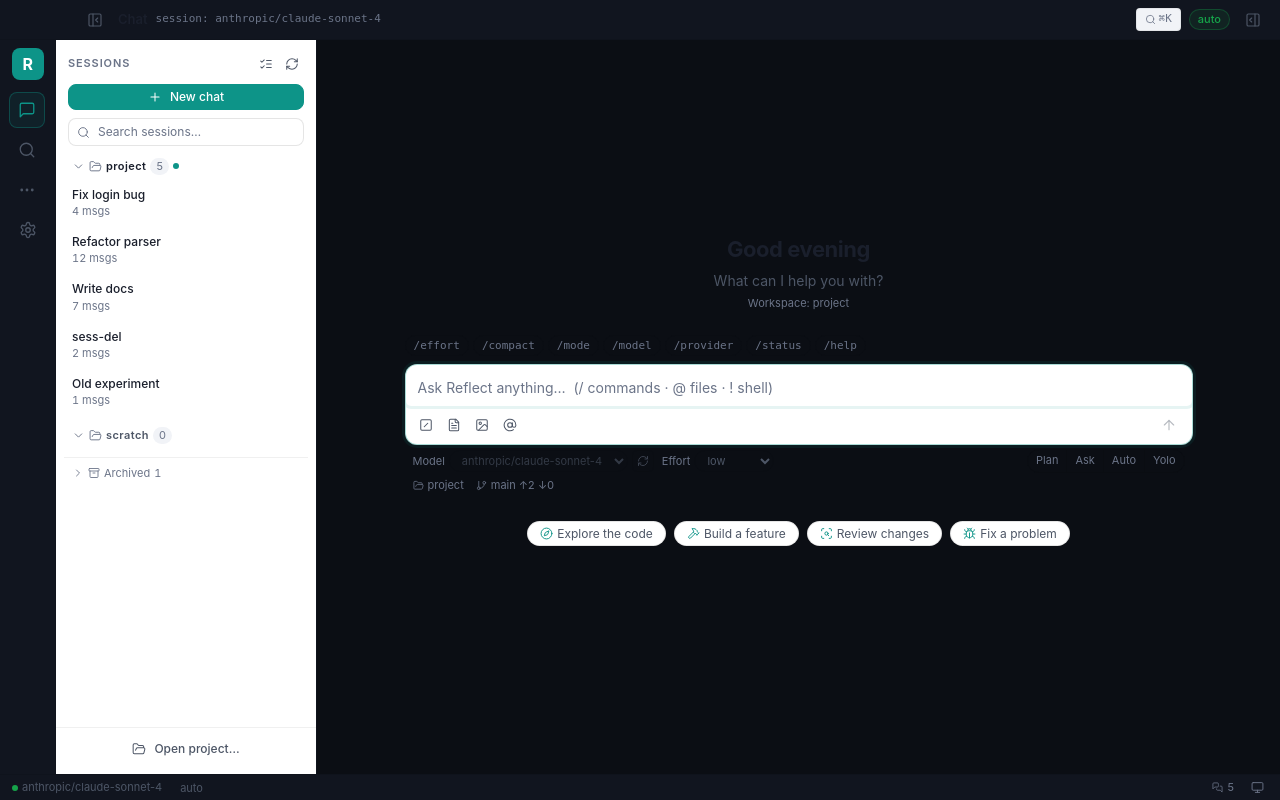
it: slash popup autocomplete › typing "/" opens the popup; Escape closes it; selection filters
Type "/" into the text box named "Message Reflect" at [798, 386], box left=406, top=365, right=1192, bottom=406
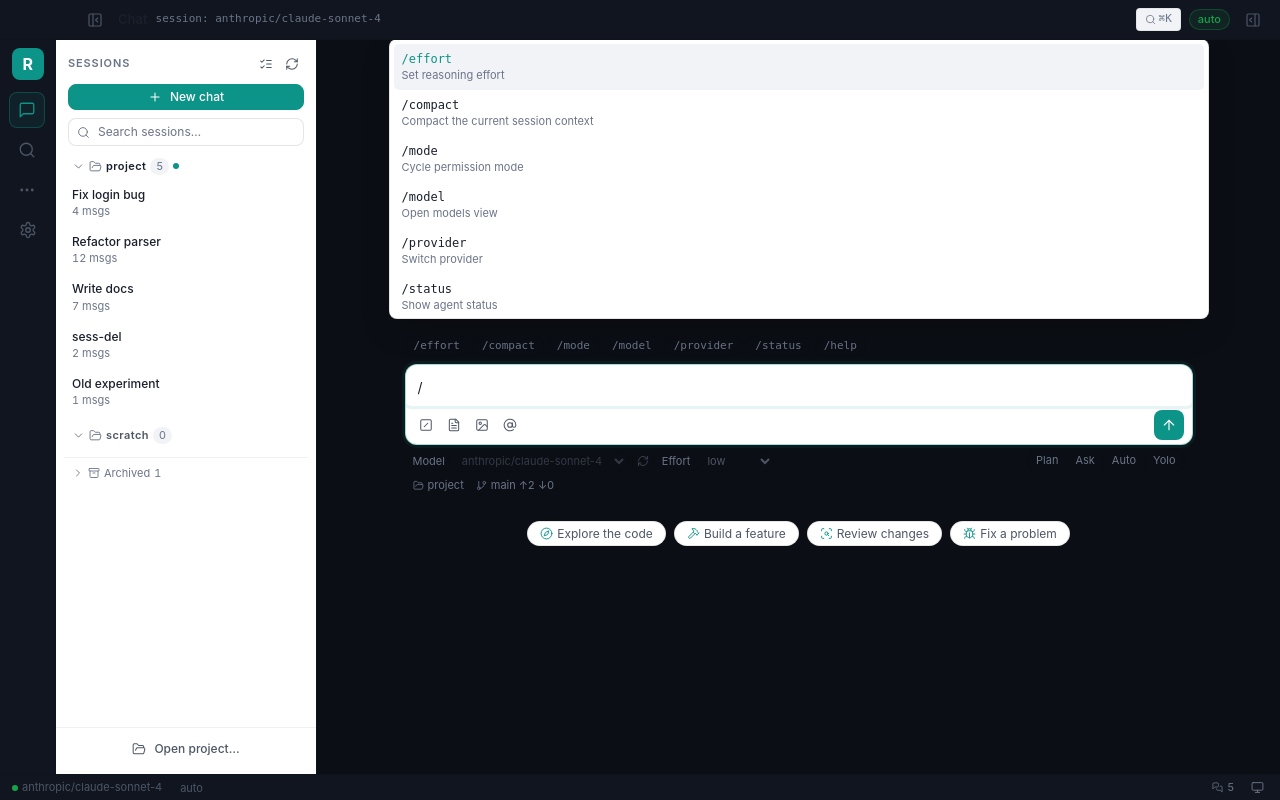
Replace the text in the text box named "Message Reflect" with "/comp" at [798, 386], box left=406, top=365, right=1192, bottom=406
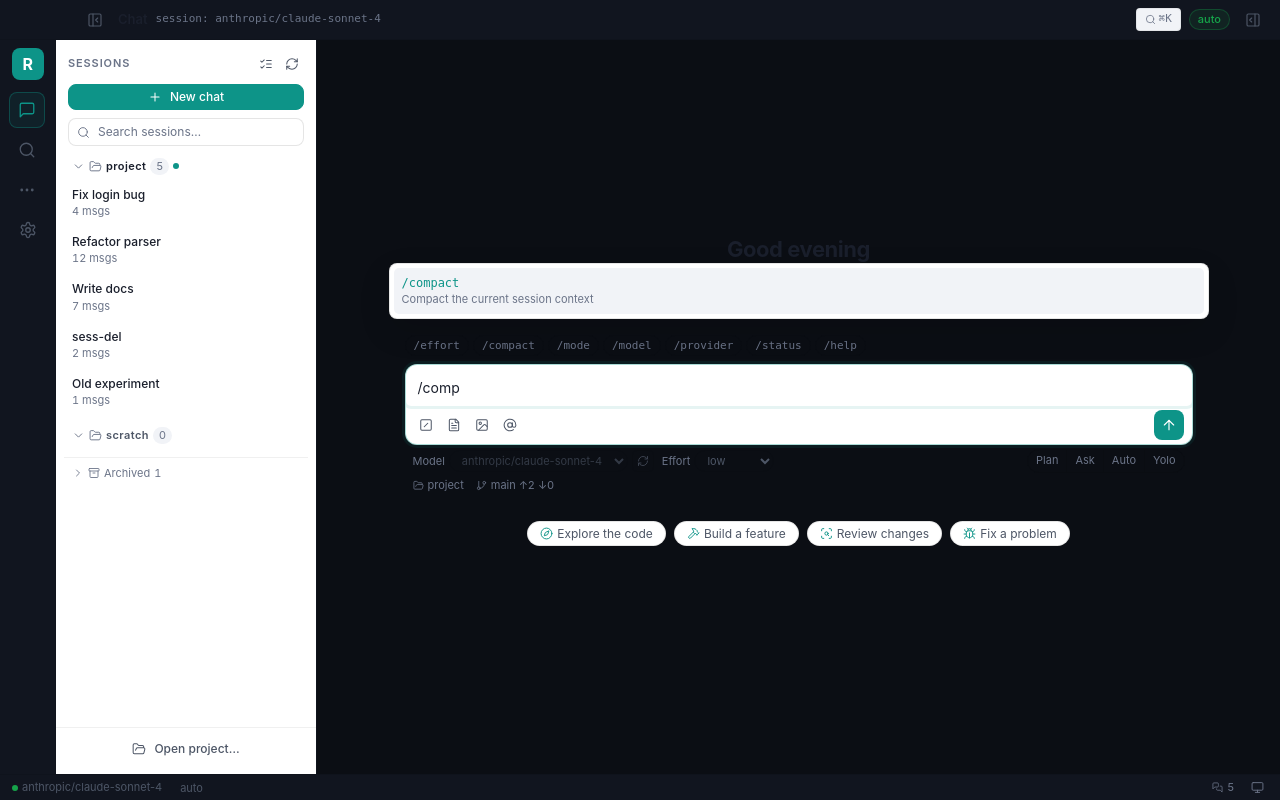
Now the list shows "compact", box left=394, top=268, right=1204, bottom=314
Press Escape in the text box named "Message Reflect", box left=406, top=365, right=1192, bottom=406
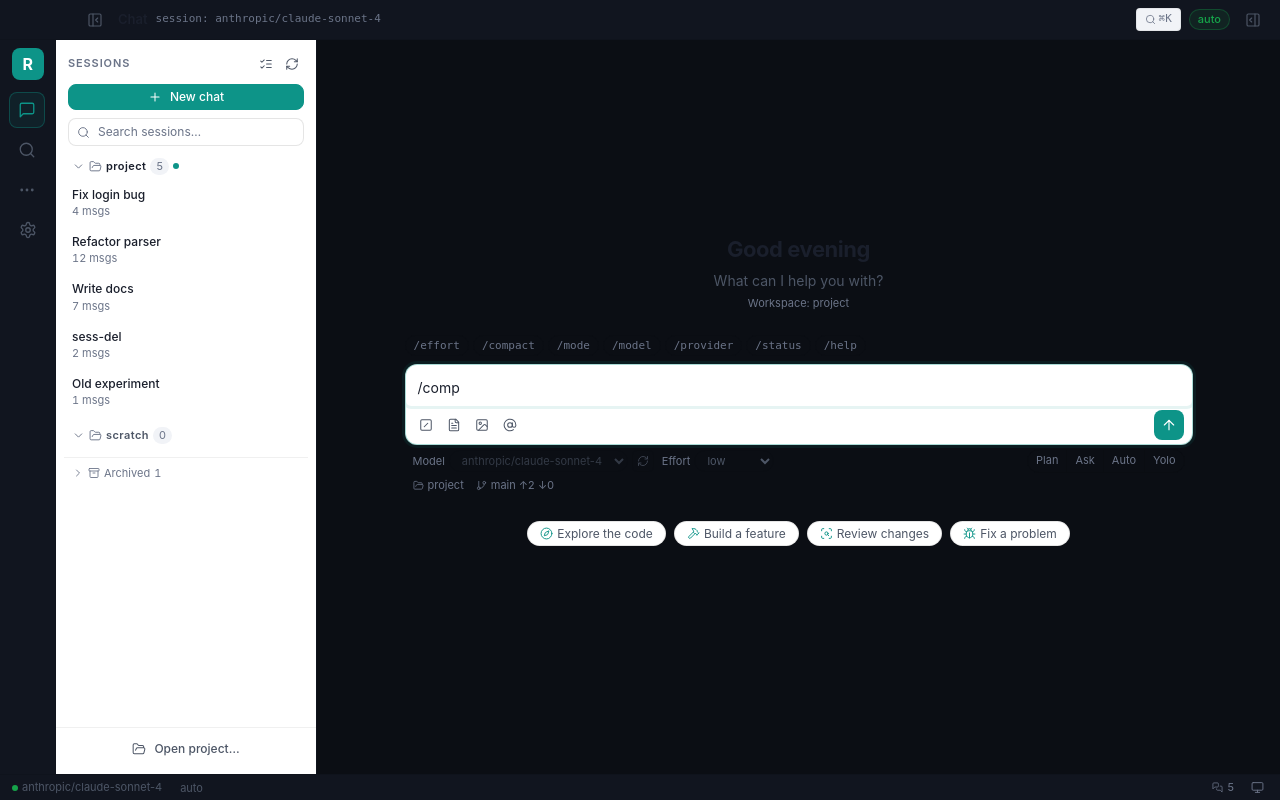
Now the list is gone
